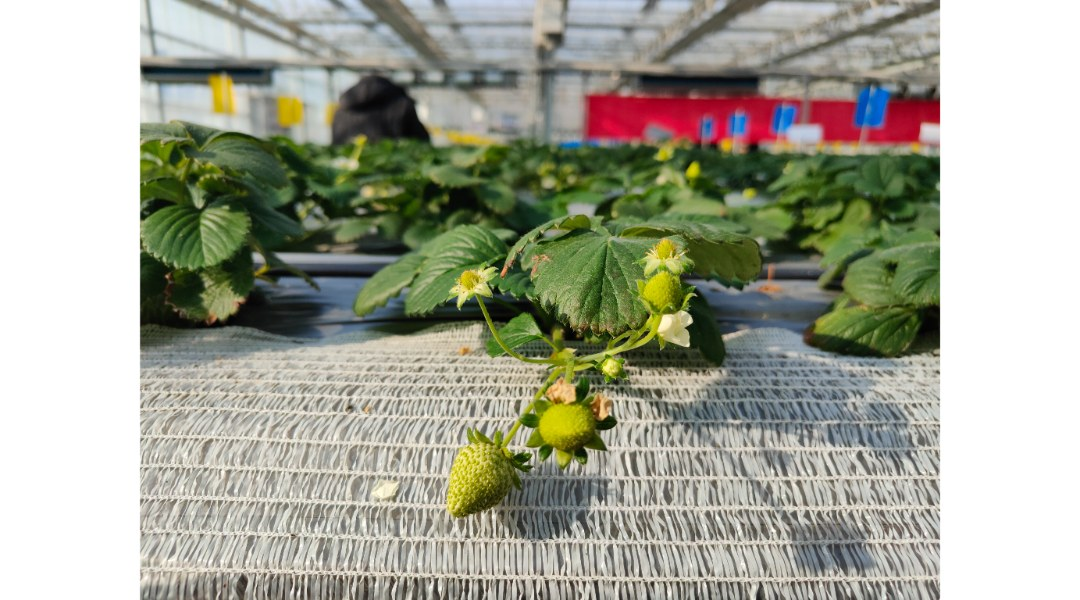berry: (438, 423, 520, 528), (528, 383, 617, 471), (622, 230, 698, 281), (443, 262, 500, 316), (640, 269, 694, 321), (599, 356, 631, 379)
flower: (479, 299, 554, 364), (650, 305, 698, 355)
